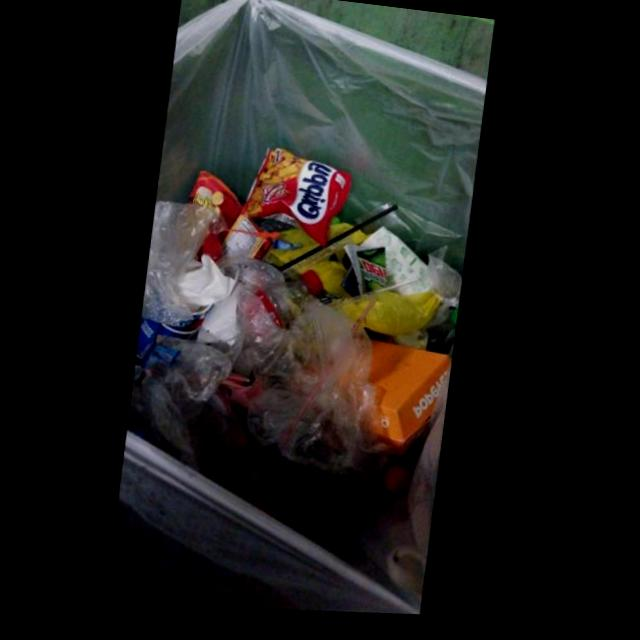bao_bi_thuc_pham: (246, 154, 357, 255), (194, 176, 276, 265), (136, 348, 183, 380)
carton: (361, 349, 454, 465)
chai_nhua_pet: (259, 277, 327, 335)
ong_hut_nhua: (279, 306, 381, 453), (281, 213, 403, 279), (332, 284, 428, 316)
tui_ni_long: (144, 205, 218, 330)
